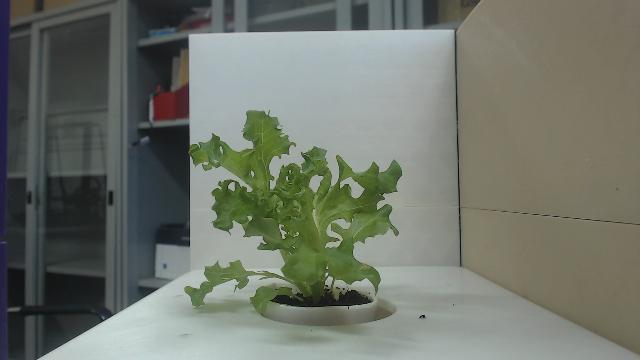Vegetative Stage: (185, 108, 403, 316)
